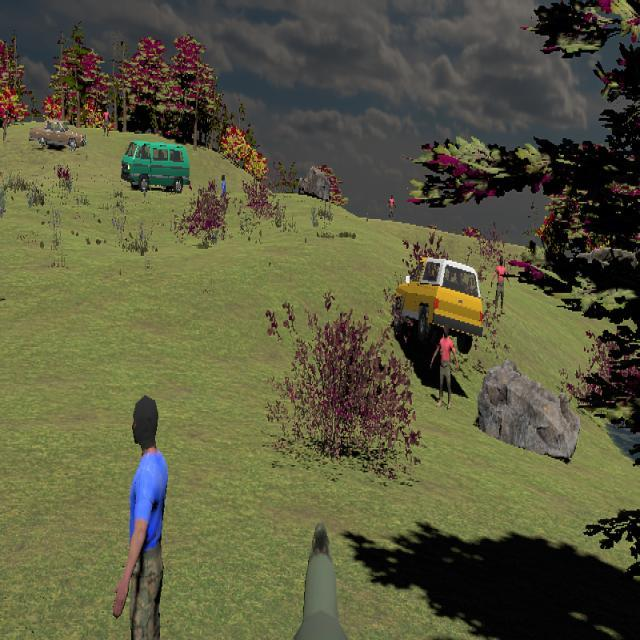Human: (113, 391, 170, 640), (430, 326, 458, 409), (490, 256, 511, 316)
car: (390, 257, 484, 363), (121, 140, 190, 194), (29, 120, 86, 151)
